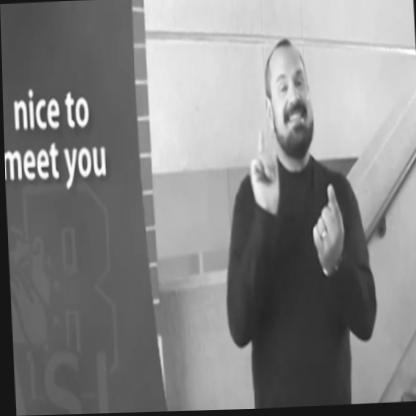NiceToMeetYou: (231, 99, 373, 323)
